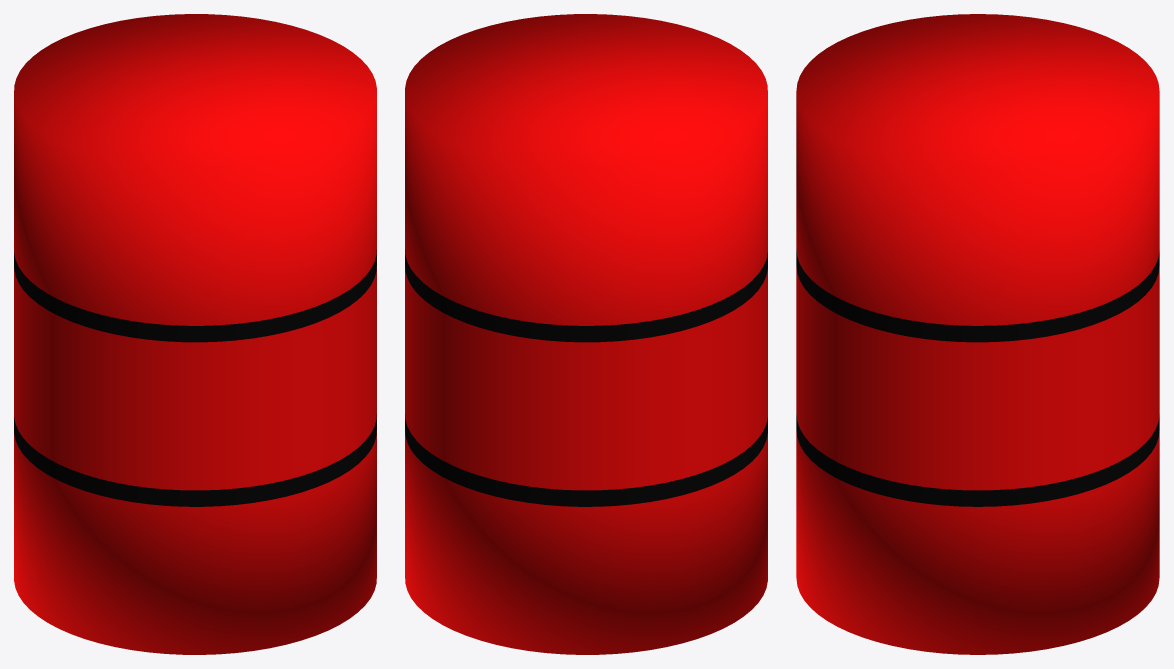
Rendered from Cilindro3.fbx.
3 renders of one model, left to right at view 1: azimuth 30°, elevation 25°; view 2: azimuth 150°, elevation 25°; view 3: azimuth 270°, elevation 25°, orthographic.
Parts seen in each view (by area): view 1: Cilindro3; view 2: Cilindro3; view 3: Cilindro3.
Boxes of the visible parts, x1,y1,x2,y2 form: Cilindro3: (14, 14, 376, 654); Cilindro3: (405, 14, 767, 654); Cilindro3: (796, 14, 1159, 654).
Bounding box in the file's own units: 200 × 296 × 200.
